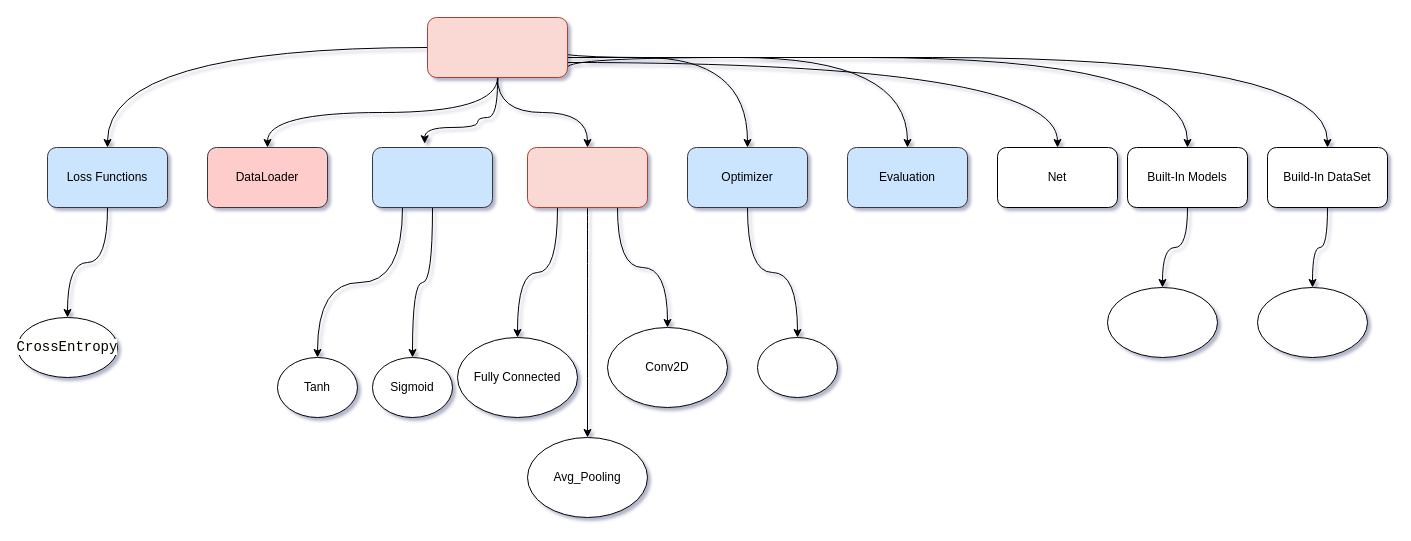
Some shapes in this 1411 by 541 pixel diagram are drawn without their labels. Each missing label, with the box of its shape:
Activation Functions: (372, 146, 492, 208)
Custom_DL_Framework: (426, 16, 568, 78)
Layers: (526, 146, 648, 208)
LeNet: (1106, 286, 1218, 358)
MNIST: (1256, 286, 1368, 358)
SGD: (756, 336, 838, 398)
